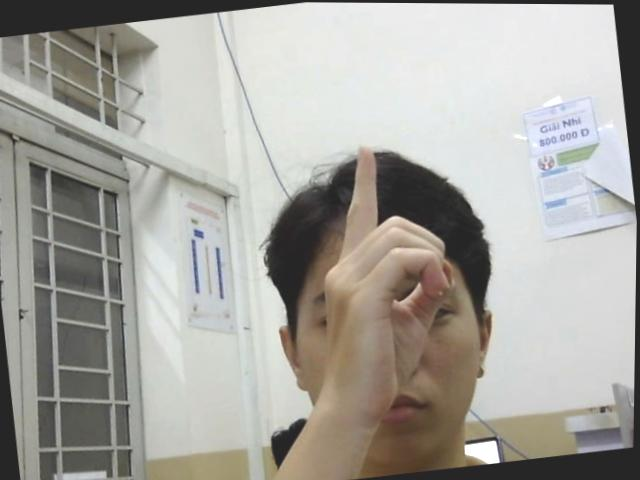D: (304, 134, 468, 421)
